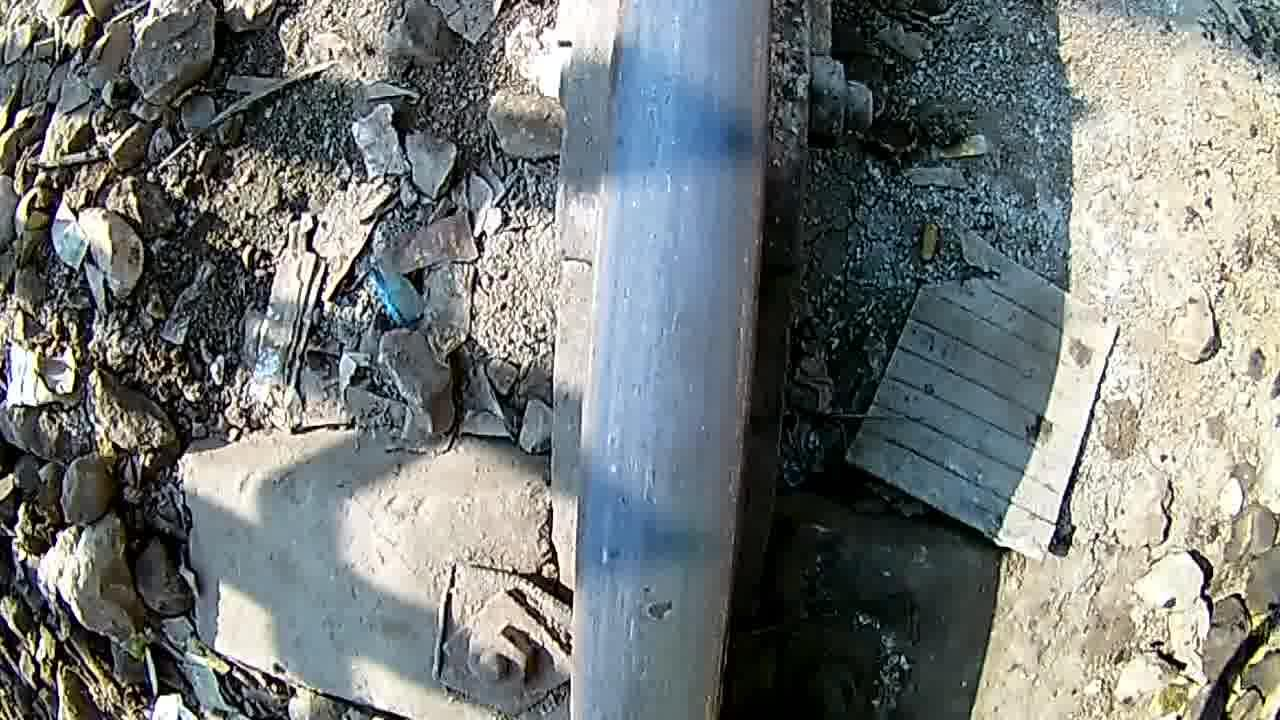crack: (583, 291, 751, 720)
